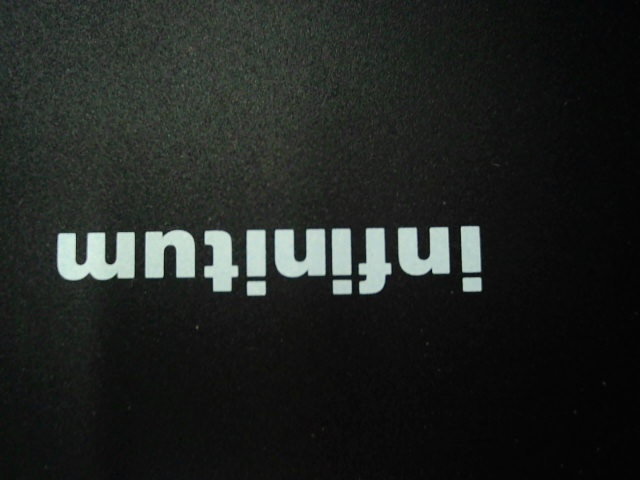BK_infinitum: (45, 211, 495, 296)
